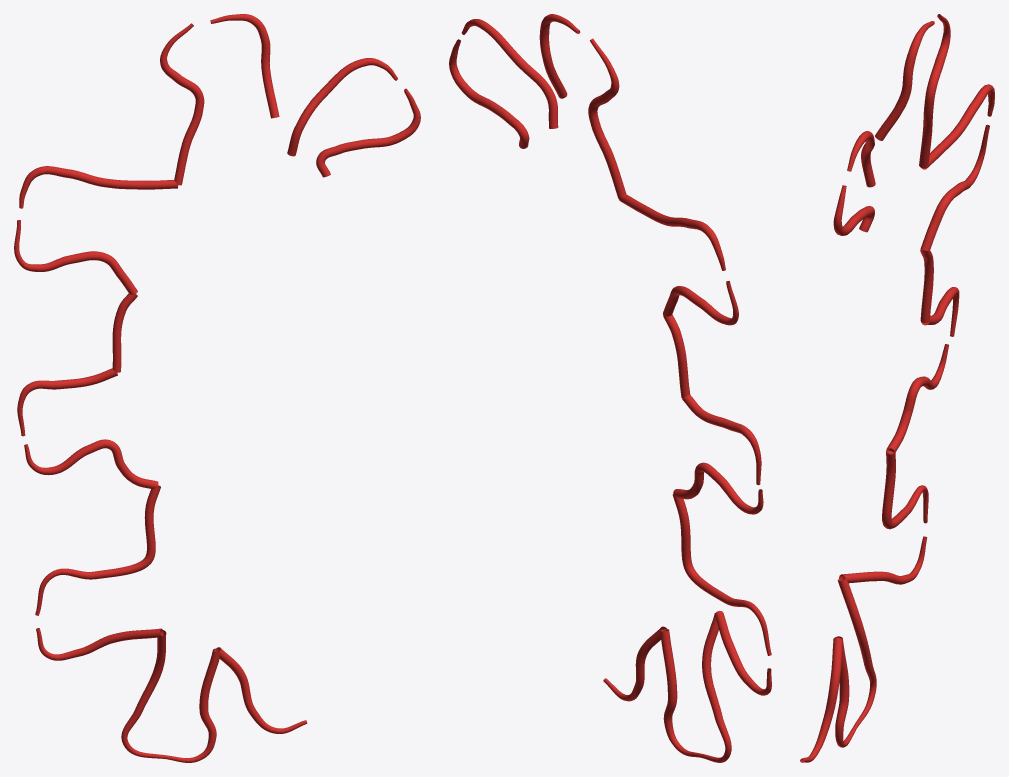
File: circulatorio-intrarenal-arteries-of-right-kidney.glb
3 views of the same model, side by side, from view 1: azimuth 30°, elevation 25°; view 2: azimuth 150°, elevation 25°; view 3: azimuth 270°, elevation 25° (orthographic). The views are drawn at different scales.
Visible parts, largest first — view 1: Intrarenal arteries of right kidney; view 2: Intrarenal arteries of right kidney; view 3: Intrarenal arteries of right kidney.
Part boxes in pixels (<box>): Intrarenal arteries of right kidney: <box>14,14,420,762</box>; Intrarenal arteries of right kidney: <box>449,14,771,762</box>; Intrarenal arteries of right kidney: <box>800,14,994,762</box>.
Bounding box in the file's own units: 0.041 × 0.079 × 0.0183.
